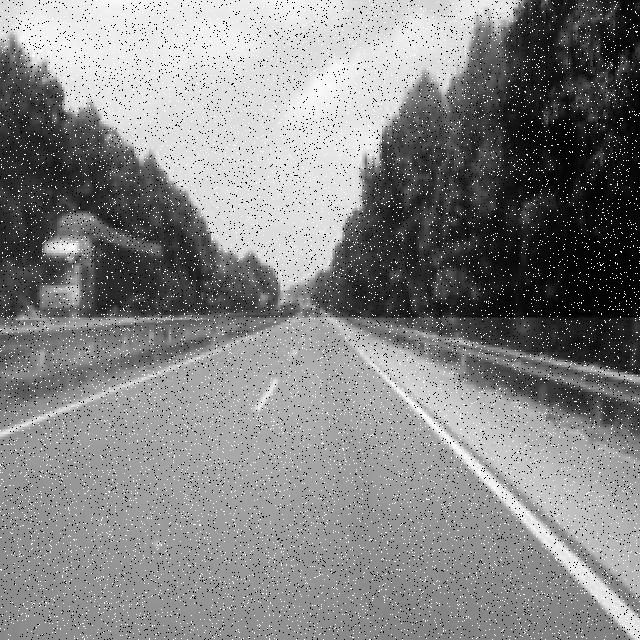clear-road: (0, 318, 631, 640)
